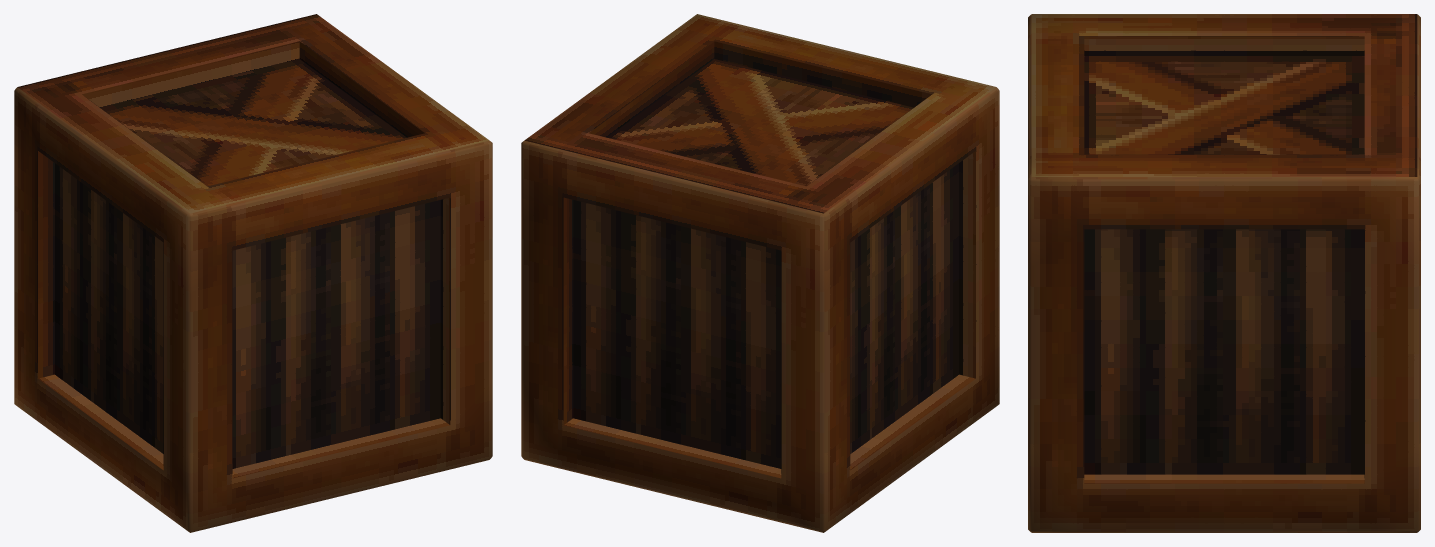
The model's file is BouncingCrate@bauncing.FBX.
The picture shows the model from 3 angles, left to right: view 1: azimuth 30°, elevation 25°; view 2: azimuth 150°, elevation 25°; view 3: azimuth 270°, elevation 25°; orthographic projection. The views are drawn at different scales.
Visible parts, largest first — view 1: bounce_crate; view 2: bounce_crate; view 3: bounce_crate.
Part boxes in pixels (left/top/right/bottom): bounce_crate: left=14, top=14, right=492, bottom=532; bounce_crate: left=521, top=14, right=999, bottom=532; bounce_crate: left=1028, top=14, right=1420, bottom=532.
Bounding box in the file's own units: 50 × 50 × 50.
